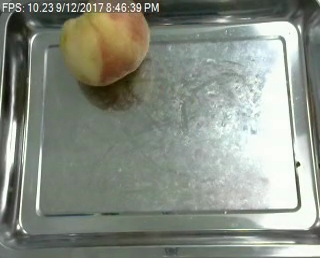Peach: (61, 0, 150, 86)
